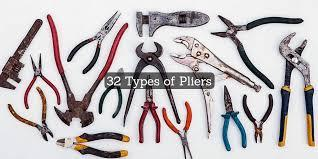pliers: (277, 30, 317, 147), (169, 33, 256, 85), (65, 7, 121, 74), (5, 88, 54, 141), (23, 50, 61, 109), (54, 131, 129, 158), (161, 100, 196, 157), (220, 83, 247, 151), (241, 92, 274, 143), (136, 73, 159, 143), (97, 66, 124, 117)
